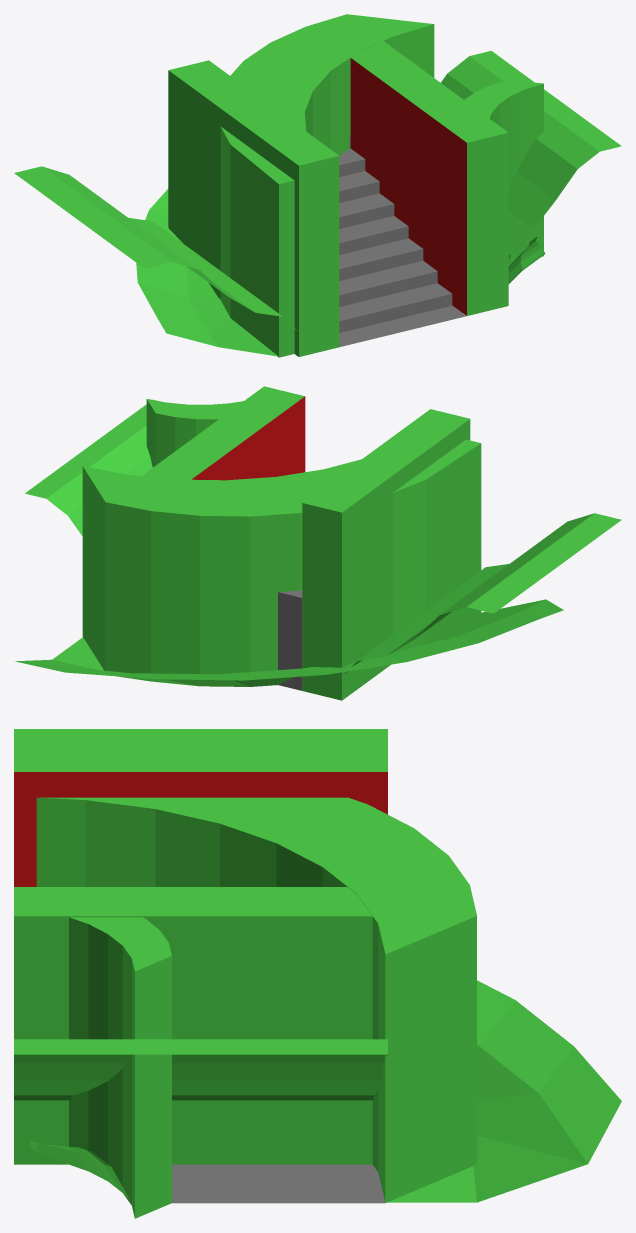
File: Scenarios.fbx
3 views of the same model, one above another, from view 1: azimuth 30°, elevation 25°; view 2: azimuth 150°, elevation 25°; view 3: azimuth 270°, elevation 25° (orthographic). The views are drawn at different scales.
Parts seen in each view (by area): view 1: MuroDerecha, KurwaMuroIzquierdo, MuroIzquierda, Escalera, ParedDerecha, ParedIzquierda, KurwaParedIzquierdo, KurwaMuroDerecho, KurwaMParedDerecho, Kurwa; view 2: KurwaMuroIzquierdo, MuroIzquierda, MuroDerecha, KurwaParedIzquierdo, ParedIzquierda, ParedDerecha, KurwaMuroDerecho, Escalera; view 3: KurwaMuroIzquierdo, MuroDerecha, KurwaMuroDerecho, MuroIzquierda, KurwaParedIzquierdo, ParedDerecha, Kurwa, ParedIzquierda, KurwaMParedDerecho.
Part boxes in pixels (x1,y1,x2,y2): MuroDerecha: (350, 41, 508, 315); KurwaMuroIzquierdo: (220, 14, 434, 357); MuroIzquierda: (168, 60, 339, 356); Escalera: (339, 136, 466, 346); ParedDerecha: (441, 50, 621, 260); ParedIzquierda: (14, 166, 296, 330); KurwaParedIzquierdo: (136, 189, 278, 356); KurwaMuroDerecho: (464, 79, 543, 266); KurwaMParedDerecho: (508, 237, 545, 283); Kurwa: (377, 305, 461, 328); KurwaMuroIzquierdo: (82, 439, 481, 674); MuroIzquierda: (302, 409, 470, 700); MuroDerecha: (142, 386, 305, 480); KurwaParedIzquierdo: (15, 599, 563, 686); ParedIzquierda: (344, 513, 621, 674); ParedDerecha: (25, 399, 154, 536); KurwaMuroDerecho: (146, 399, 243, 467); Escalera: (278, 590, 302, 690); KurwaMuroIzquierdo: (36, 797, 476, 1202); MuroDerecha: (14, 887, 372, 1164); KurwaMuroDerecho: (69, 917, 171, 1218); MuroIzquierda: (14, 743, 387, 886); KurwaParedIzquierdo: (387, 980, 621, 1202); ParedDerecha: (14, 1039, 387, 1100); Kurwa: (172, 1164, 385, 1203); ParedIzquierda: (14, 729, 387, 743); KurwaMParedDerecho: (28, 1141, 129, 1199).
Bounding box in the file's own units: 4224 × 1618 × 3251.
